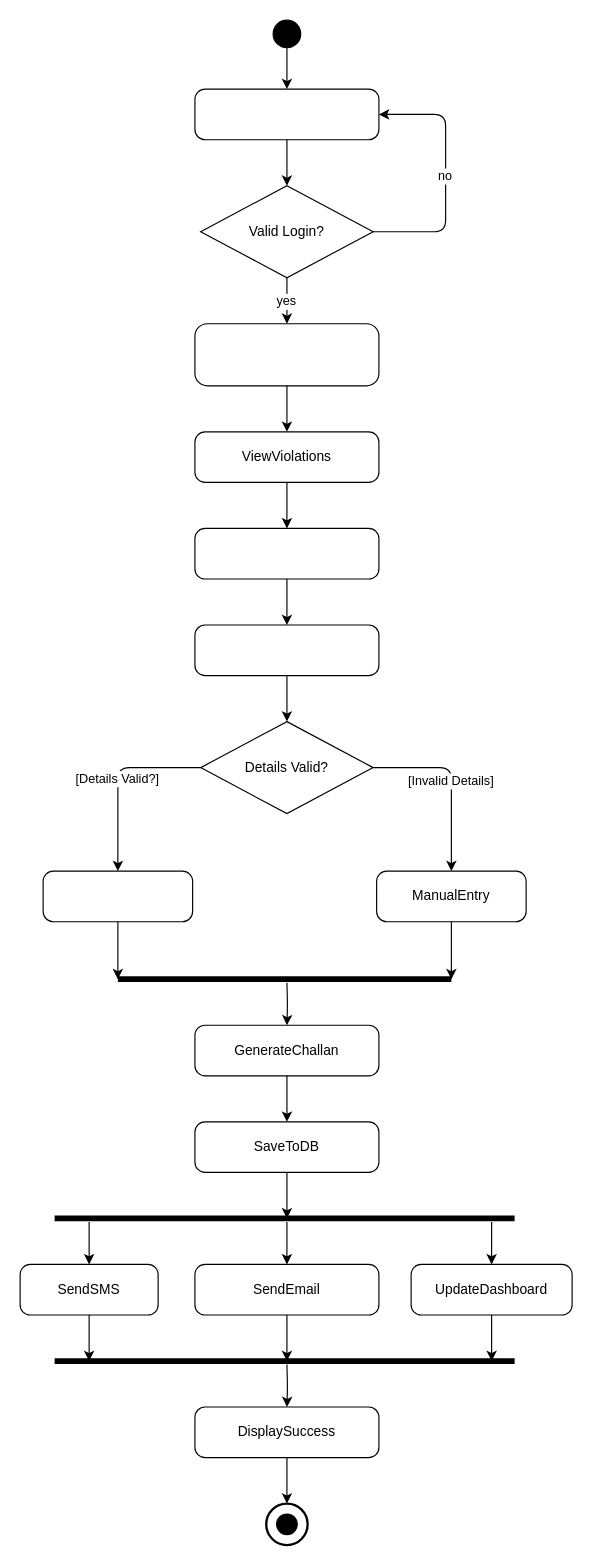
This 592x1566 diagram has some shape labels left out. The centre of each missing label's shape, as x and y in pixels:
"CalcFine" goes at point 117,896.
"Login" goes at point 286,114.
"SelectViolation" goes at point 286,553.
"Upload Bulk Resumes (PDF Zip) & Job Description (JD)" goes at point 286,354.
"VerifyVehicle" goes at point 286,650.
